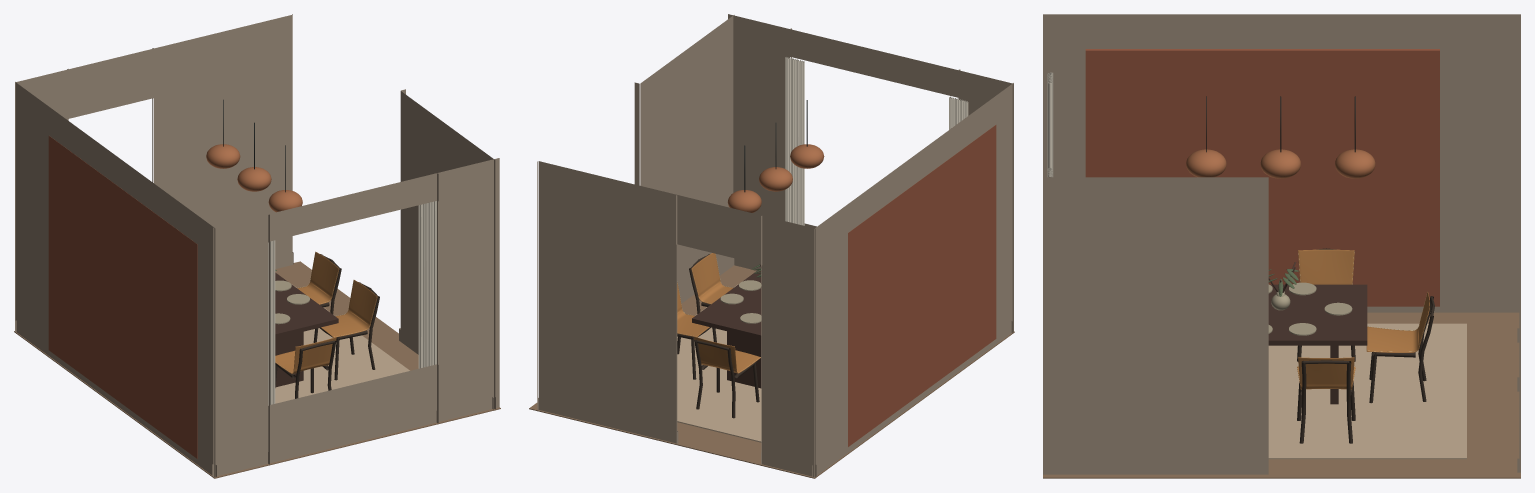
File: dining-3.glb
3 views of the same model, side by side, from view 1: azimuth 30°, elevation 25°; view 2: azimuth 150°, elevation 25°; view 3: azimuth 270°, elevation 25° (orthographic). The views are drawn at different scales.
Visible parts, largest first — view 1: DESIGN | dining removable wall finish, DESIGN | Dining clay wall field, DESIGN | Dining ground, DESIGN | dining floor finish, DESIGN | Dining linen edge.001, DESIGN | Required Isadora dining chair 3, DESIGN | Dining table top, DESIGN | Required Isadora dining chair 5, DESIGN | Required Isadora dining chair 4, DESIGN | Dining linen edge, DESIGN | Dining table trestle, DESIGN | Dining light 2 shade (+2 smaller); view 2: DESIGN | dining removable wall finish, DESIGN | Dining clay wall field, DESIGN | Dining ground, DESIGN | dining floor finish, DESIGN | Dining linen edge.001, DESIGN | Dining table top, DESIGN | Required Isadora dining chair 6, DESIGN | Required Isadora dining chair 3, DESIGN | Dining table trestle.001, DESIGN | Required Isadora dining chair 4, DESIGN | Dining light 1 shade, DESIGN | Dining light 2 shade (+1 smaller); view 3: DESIGN | dining removable wall finish, DESIGN | Dining clay wall field, DESIGN | Dining ground, DESIGN | dining floor finish, DESIGN | Dining table top, DESIGN | Required Isadora dining chair 6, DESIGN | Required Isadora dining chair 4, DESIGN | Required Isadora dining chair 2, DESIGN | Dining light 3 shade, DESIGN | Dining light 2 shade, DESIGN | Dining light 1 shade, DESIGN | Dining linen edge.
Boxes of the visible parts, <box> form: DESIGN | dining removable wall finish: <box>15,14,499,477</box>; DESIGN | Dining clay wall field: <box>48,136,197,458</box>; DESIGN | Dining ground: <box>275,284,409,403</box>; DESIGN | dining floor finish: <box>14,261,500,478</box>; DESIGN | Dining linen edge.001: <box>418,201,436,368</box>; DESIGN | Required Isadora dining chair 3: <box>313,280,379,380</box>; DESIGN | Dining table top: <box>275,272,338,338</box>; DESIGN | Required Isadora dining chair 5: <box>275,337,336,398</box>; DESIGN | Required Isadora dining chair 4: <box>297,251,341,314</box>; DESIGN | Dining linen edge: <box>268,240,275,405</box>; DESIGN | Dining table trestle: <box>275,331,303,387</box>; DESIGN | Dining light 2 shade: <box>237,167,271,191</box>; DESIGN | dining removable wall finish: <box>537,14,1013,477</box>; DESIGN | Dining clay wall field: <box>848,125,996,446</box>; DESIGN | Dining ground: <box>677,284,761,442</box>; DESIGN | dining floor finish: <box>529,265,1014,478</box>; DESIGN | Dining linen edge.001: <box>785,57,804,225</box>; DESIGN | Dining table top: <box>692,269,761,339</box>; DESIGN | Required Isadora dining chair 6: <box>694,336,760,418</box>; DESIGN | Required Isadora dining chair 3: <box>689,253,732,340</box>; DESIGN | Dining table trestle.001: <box>727,331,761,388</box>; DESIGN | Required Isadora dining chair 4: <box>677,282,716,379</box>; DESIGN | Dining light 1 shade: <box>790,144,824,168</box>; DESIGN | Dining light 2 shade: <box>759,167,792,191</box>; DESIGN | dining removable wall finish: <box>1043,14,1520,474</box>; DESIGN | Dining clay wall field: <box>1085,49,1439,306</box>; DESIGN | Dining ground: <box>1268,323,1466,459</box>; DESIGN | dining floor finish: <box>1043,312,1520,478</box>; DESIGN | Dining table top: <box>1268,284,1367,345</box>; DESIGN | Required Isadora dining chair 6: <box>1366,292,1434,403</box>; DESIGN | Required Isadora dining chair 4: <box>1297,357,1355,443</box>; DESIGN | Required Isadora dining chair 2: <box>1297,248,1355,361</box>; DESIGN | Dining light 3 shade: <box>1335,149,1375,178</box>; DESIGN | Dining light 2 shade: <box>1260,149,1300,178</box>; DESIGN | Dining light 1 shade: <box>1186,149,1226,177</box>; DESIGN | Dining linen edge: <box>1047,72,1053,170</box>.
Bounding box in the file's own units: 3.28 × 2.74 × 3.98.
